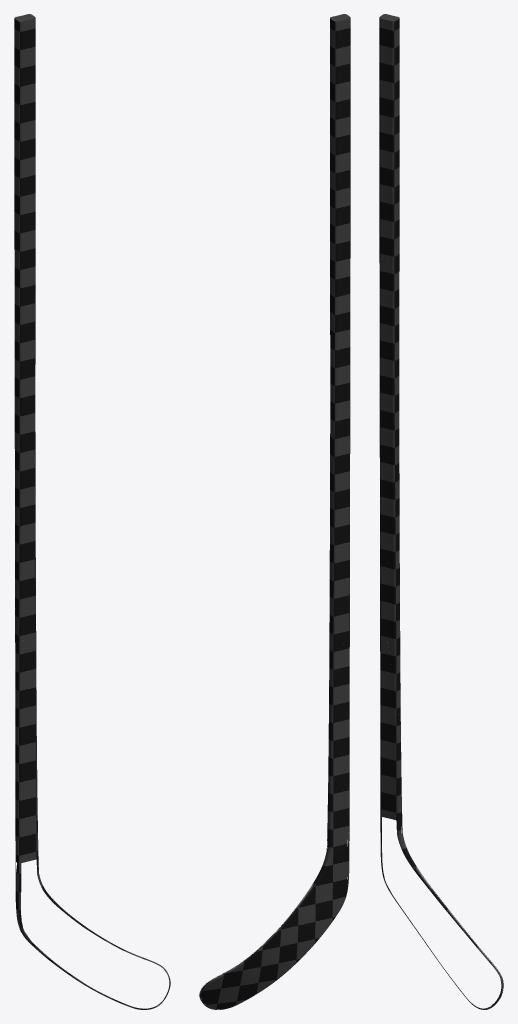
The model's file is P92M-SBT.glb.
3 renders of one model, left to right at view 1: azimuth 30°, elevation 25°; view 2: azimuth 210°, elevation 25°; view 3: azimuth 330°, elevation 25°, orthographic. The views are drawn at different scales.
Visible parts, largest first — view 1: geometry_0; view 2: geometry_0; view 3: geometry_0.
Boxes of the visible parts, x1,y1,x2,y2 form: geometry_0: (14,14,170,1009); geometry_0: (199,14,350,1009); geometry_0: (379,14,503,1009).
Size of the model in its own units: 241 by 1650 by 56.15.
1 material, 1 textured.
